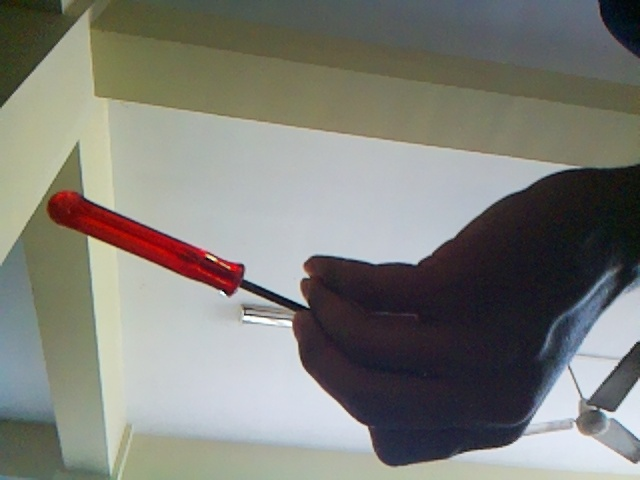redskrew: (38, 188, 299, 327)
